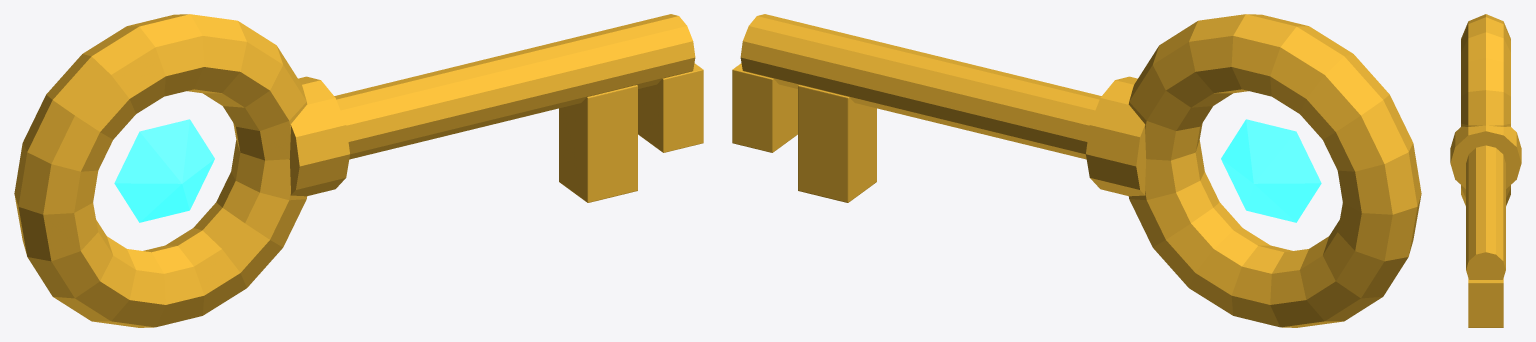
File: key.glb
The picture shows the model from 3 angles, left to right: view 1: azimuth 30°, elevation 25°; view 2: azimuth 150°, elevation 25°; view 3: azimuth 270°, elevation 25°; orthographic projection. The views are drawn at different scales.
Visible parts, largest first — view 1: key; view 2: key; view 3: key.
Boxes of the visible parts, x1,y1,x2,y2 form: key: [14, 14, 703, 327]; key: [732, 14, 1421, 327]; key: [1450, 14, 1521, 327].
Size of the model in its own units: 0.665 by 0.2856 by 0.1.
